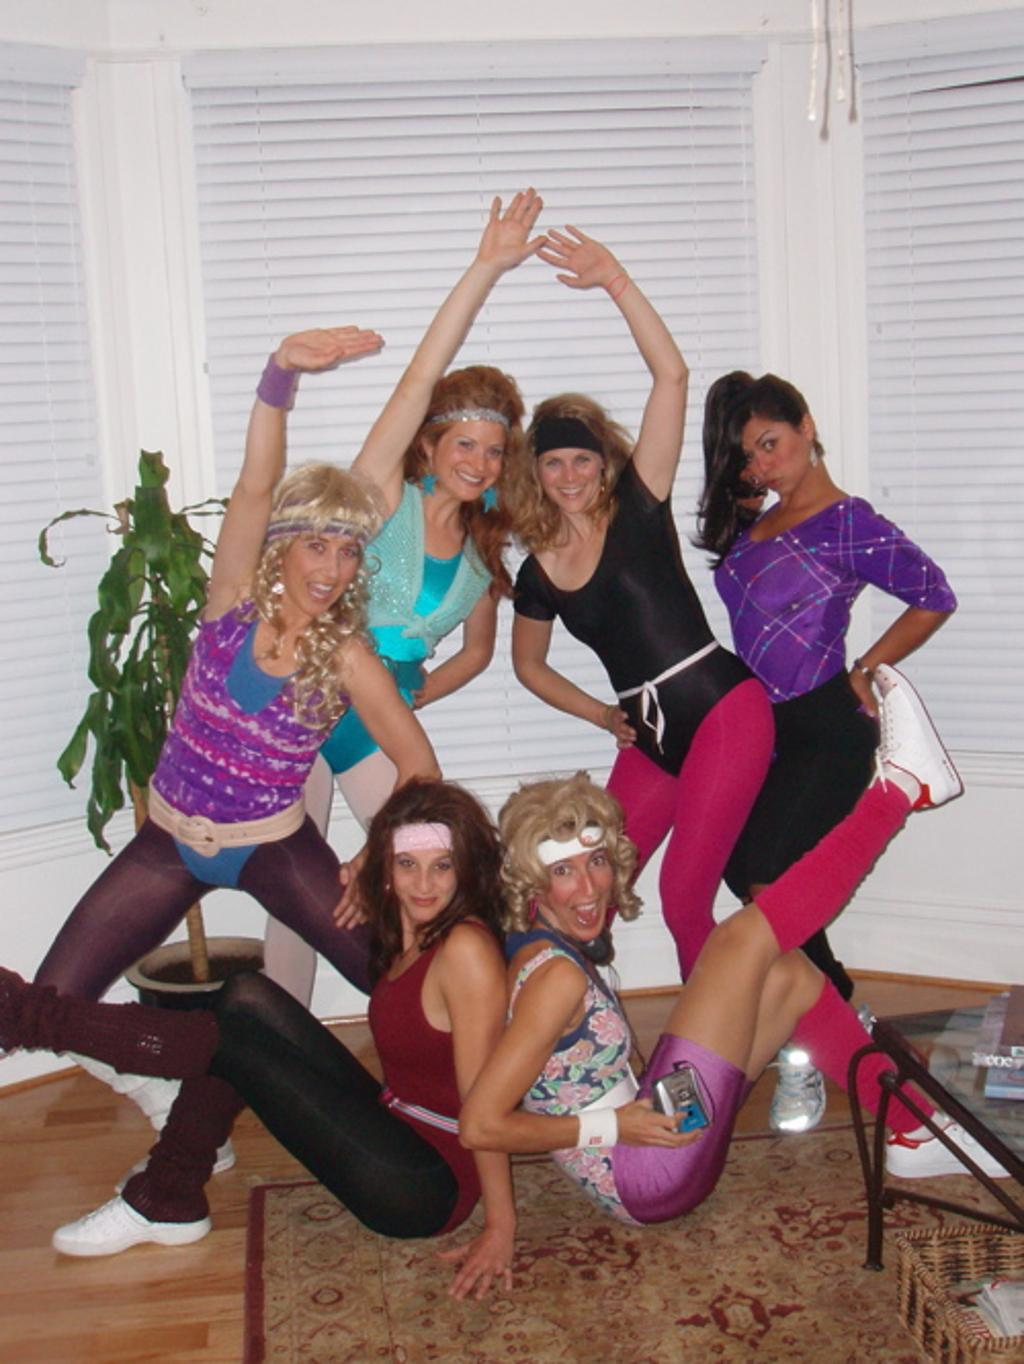face: (544, 827, 616, 939), (387, 821, 456, 925), (432, 411, 507, 507), (283, 531, 363, 619), (736, 416, 803, 499), (533, 432, 602, 512)
